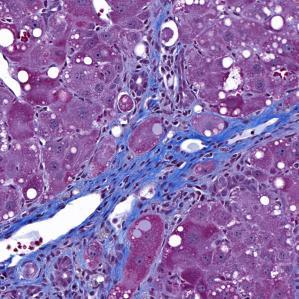fibrosis: (90, 143, 222, 223), (29, 228, 133, 299), (146, 47, 213, 126)
